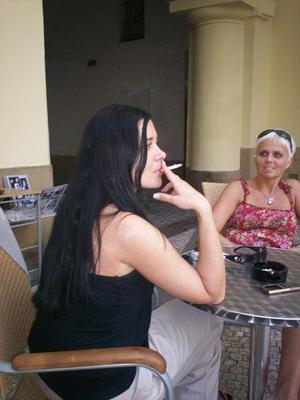person: (24, 102, 226, 400)
